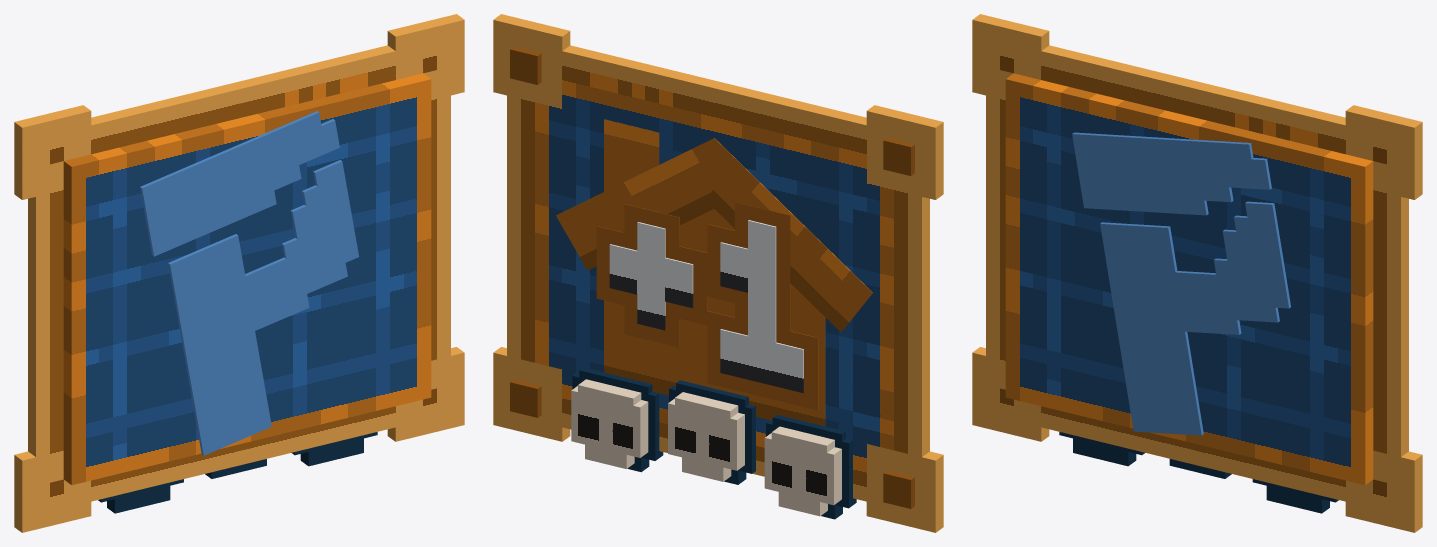
3 renders of one model, left to right at view 1: azimuth 30°, elevation 25°; view 2: azimuth 150°, elevation 25°; view 3: azimuth 330°, elevation 25°, orthographic.
Parts seen in each view (by area): view 1: plan-Local, backp-Local, skull03-Local, skull02-Local; view 2: plan-Local, icon_border-Local, icon-Local, house_body-Local, house_roof_2-Local, skull02-Local, skull03-Local, skull01-Local, house_roof_1-Local, dots-Local; view 3: plan-Local, backp-Local, skull02-Local, skull03-Local.
Boxes of the visible parts, bbox=[...] form: plan-Local: bbox=[14, 14, 464, 532]; backp-Local: bbox=[140, 111, 358, 455]; skull03-Local: bbox=[98, 479, 183, 513]; skull02-Local: bbox=[291, 432, 377, 466]; plan-Local: bbox=[493, 14, 943, 532]; icon_border-Local: bbox=[596, 202, 818, 410]; icon-Local: bbox=[609, 220, 803, 392]; house_body-Local: bbox=[604, 119, 825, 426]; house_roof_2-Local: bbox=[698, 138, 872, 332]; skull02-Local: bbox=[571, 367, 663, 472]; skull03-Local: bbox=[764, 414, 856, 519]; skull01-Local: bbox=[668, 380, 755, 484]; house_roof_1-Local: bbox=[556, 138, 720, 270]; dots-Local: bbox=[510, 46, 914, 508]; plan-Local: bbox=[972, 14, 1422, 532]; backp-Local: bbox=[1072, 132, 1290, 435]; skull02-Local: bbox=[1252, 479, 1338, 513]; skull03-Local: bbox=[1059, 432, 1145, 466].
Size of the model in its own units: 64 by 57 by 7.52.
11 materials, 11 textured.
